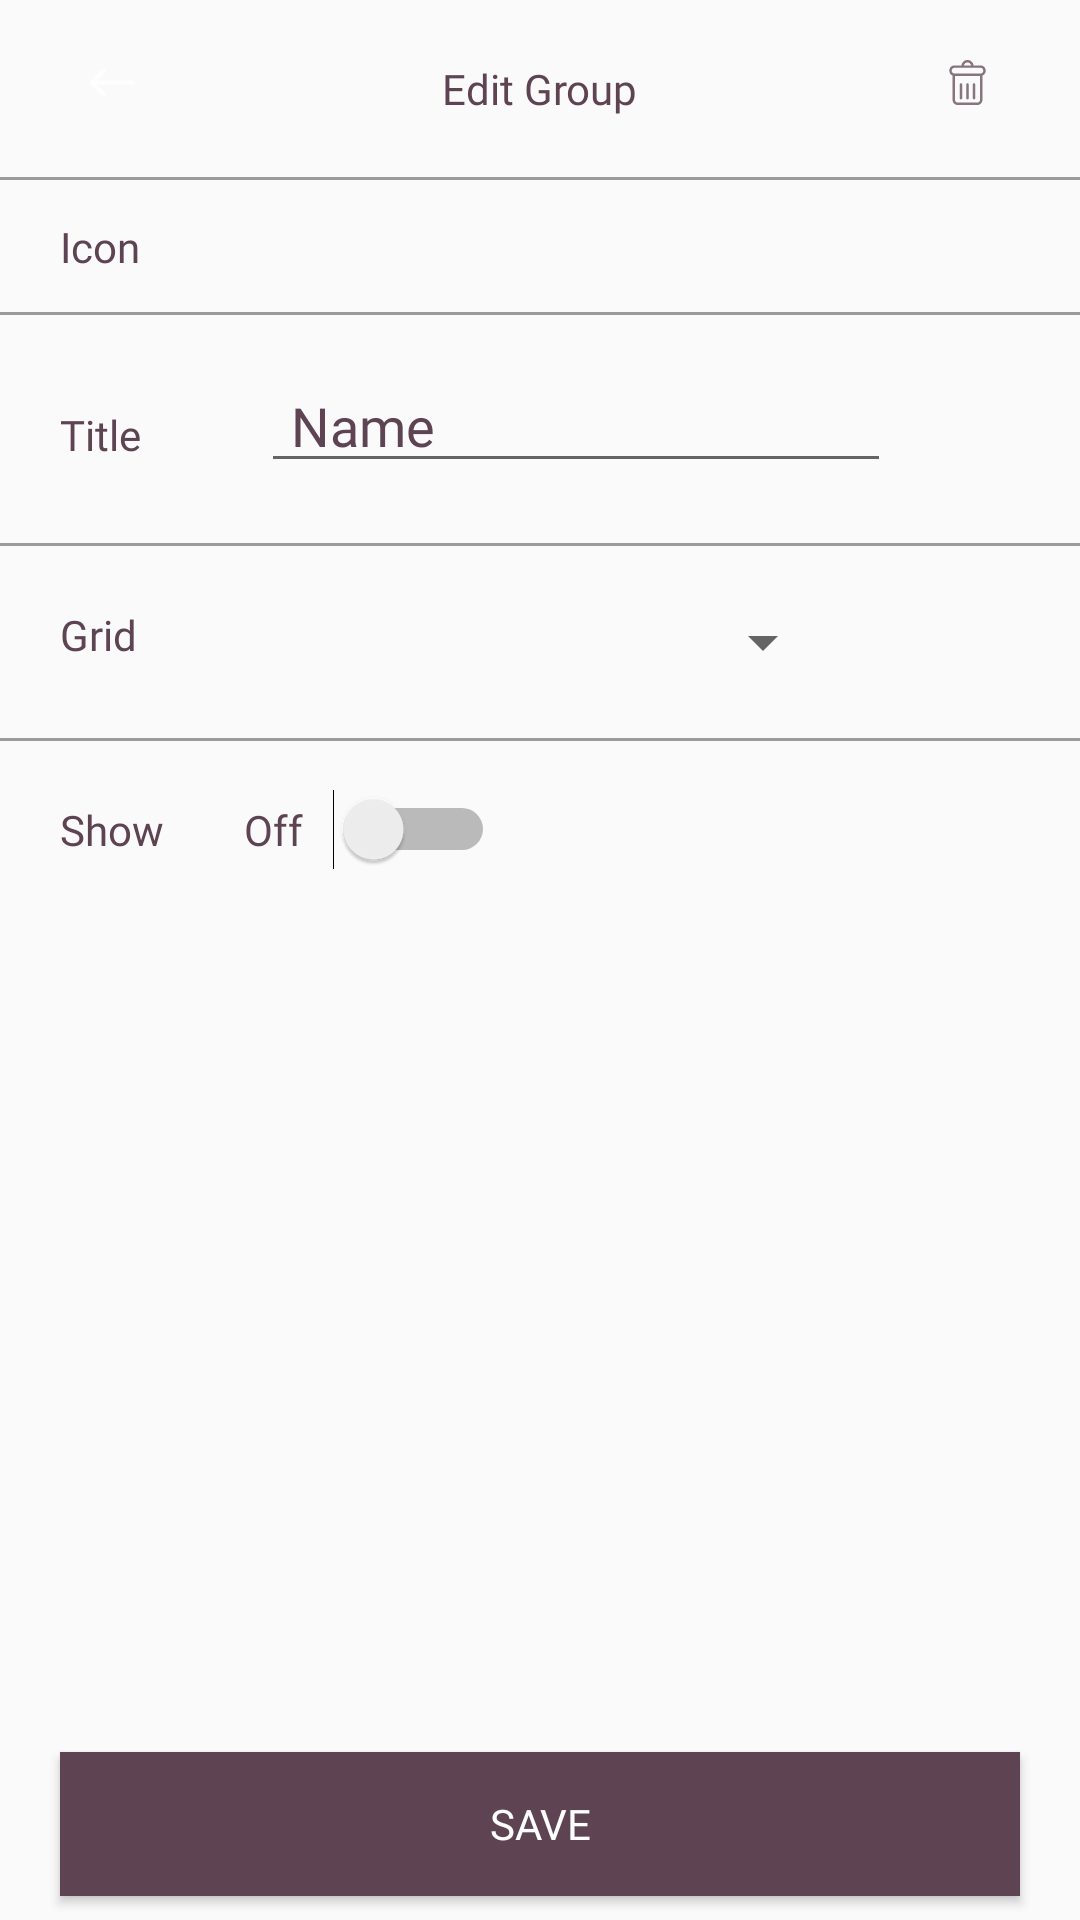

Screen size 1080 × 1920. Icon name, then its center in pixels as (x,y):
delete: (967,82)
